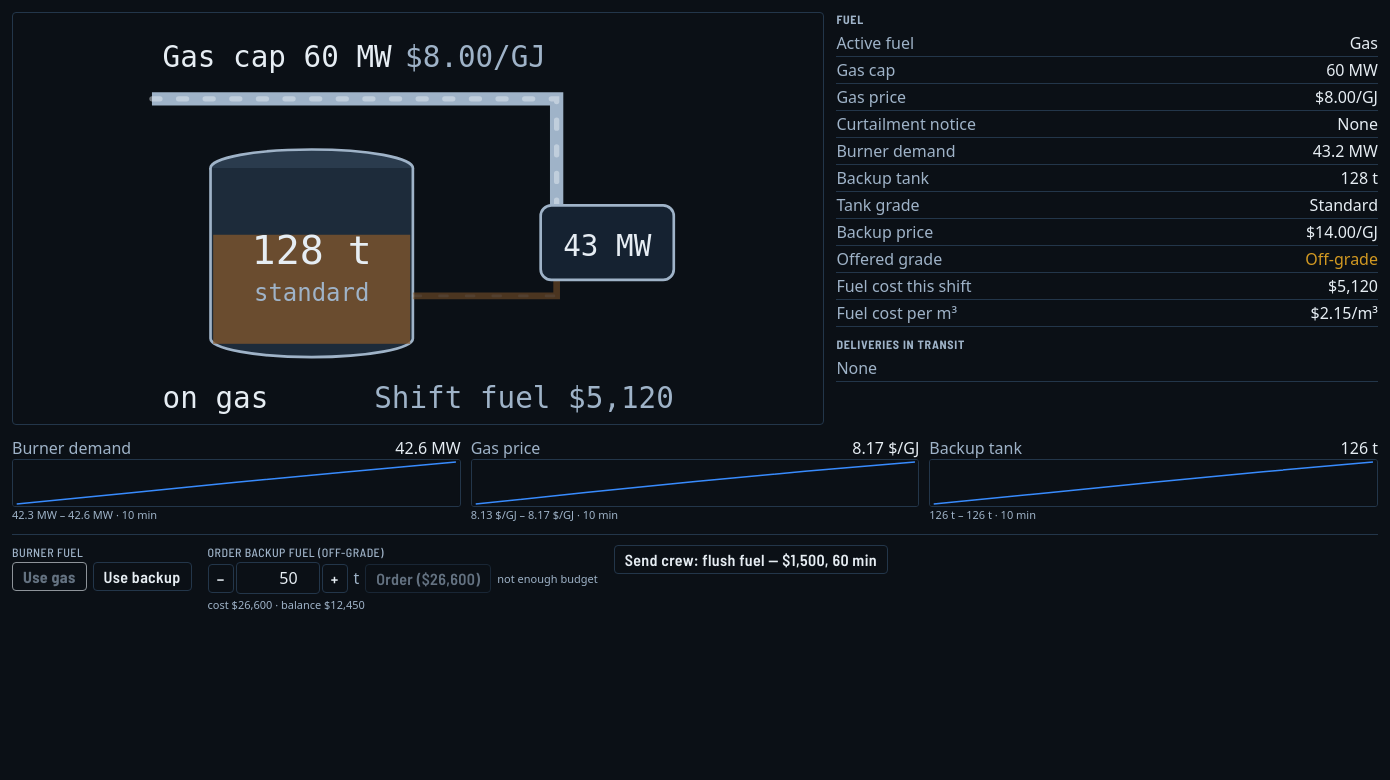
Test: FuelView controls › prices an off-grade offer at the off-grade LHV
This screenshot has width=1390, height=780.
Step 1. Replace the text in the number field named "tonnes" with "20" → coordinates (278, 578), box [236,562,320,594]
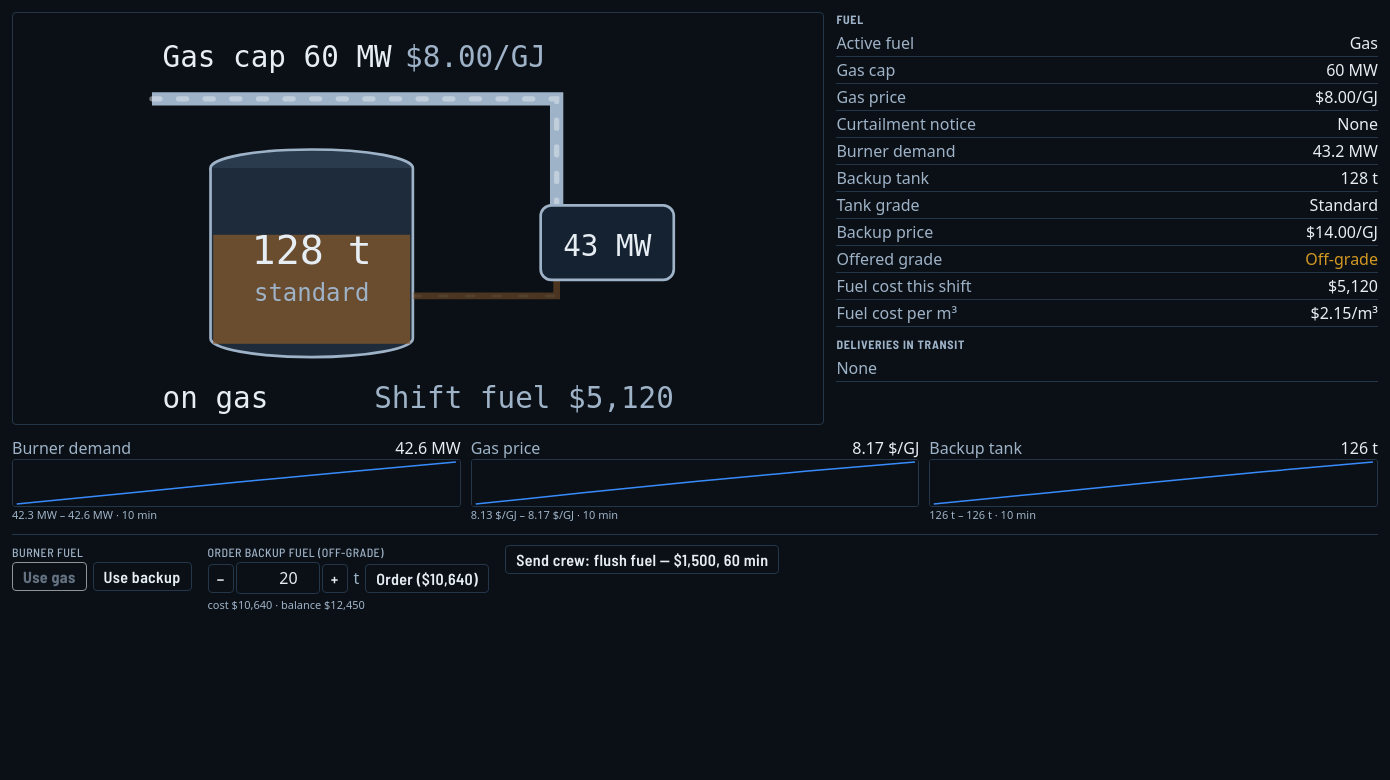
Now the text "$10,640" is shown, box [365,564,489,593]
